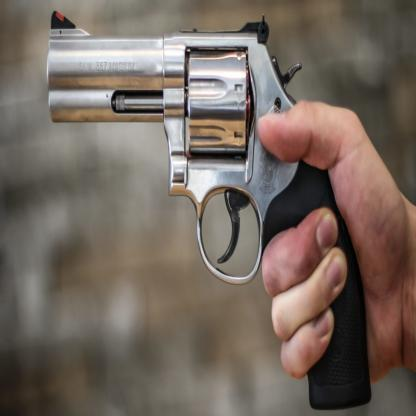Pistol: (48, 10, 371, 416)
